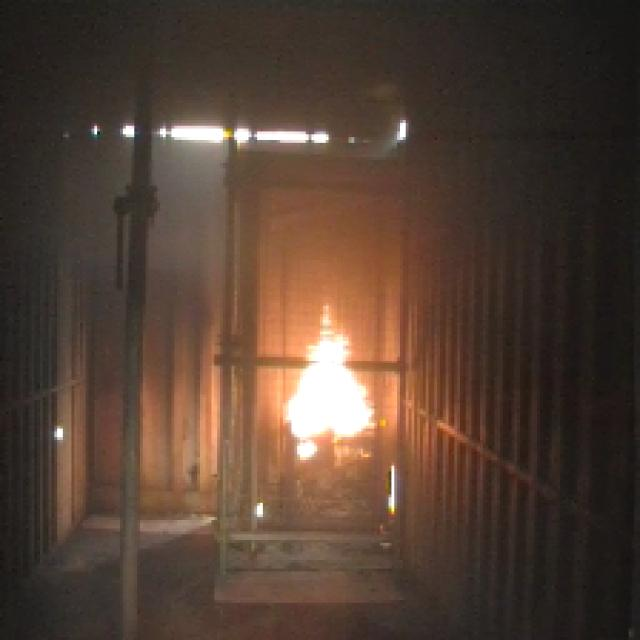fire: (286, 301, 388, 453)
